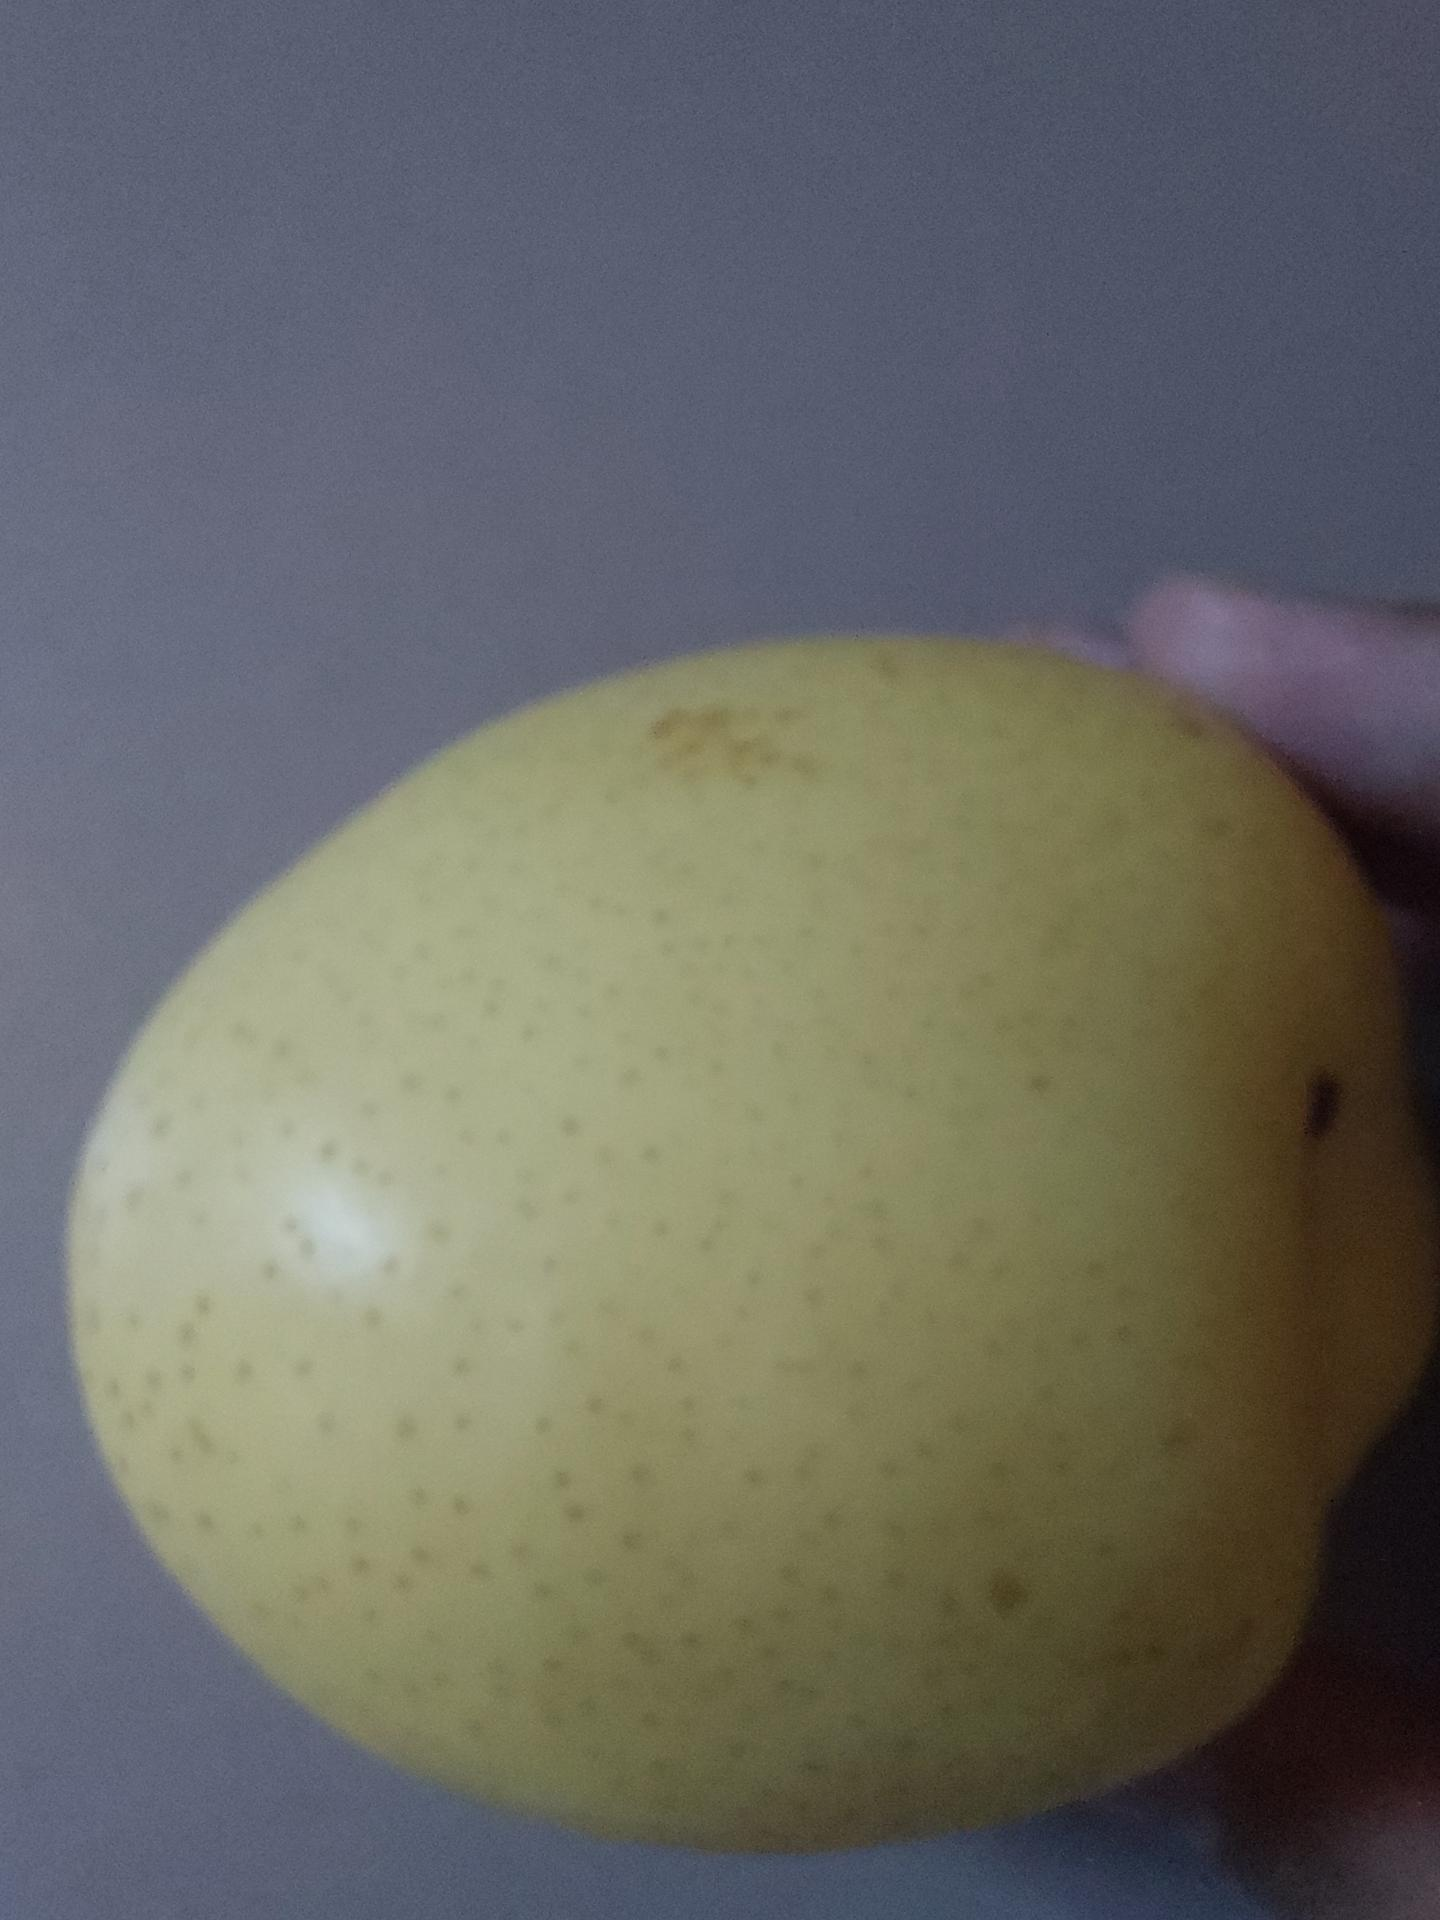Good Pear: (32, 692, 1207, 1866)
